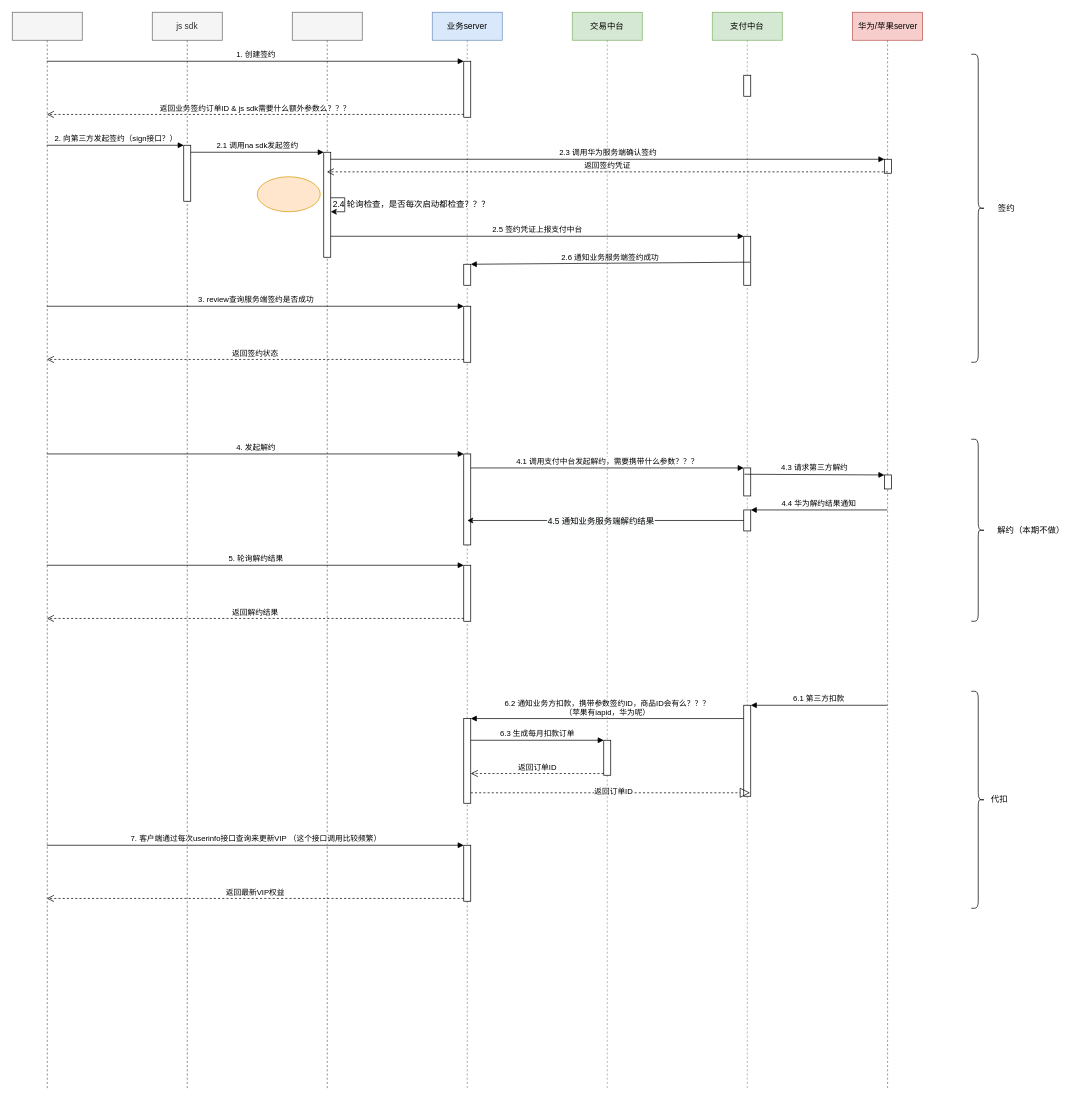
Image size: 1082x1103. Some labels were removed from this diagram. Each missing label, with the box of its shape:
app: (12, 12, 82, 1090)
na sdk: (292, 12, 362, 1090)
需要添加上报业务方服务端记录: (257, 176, 320, 212)
